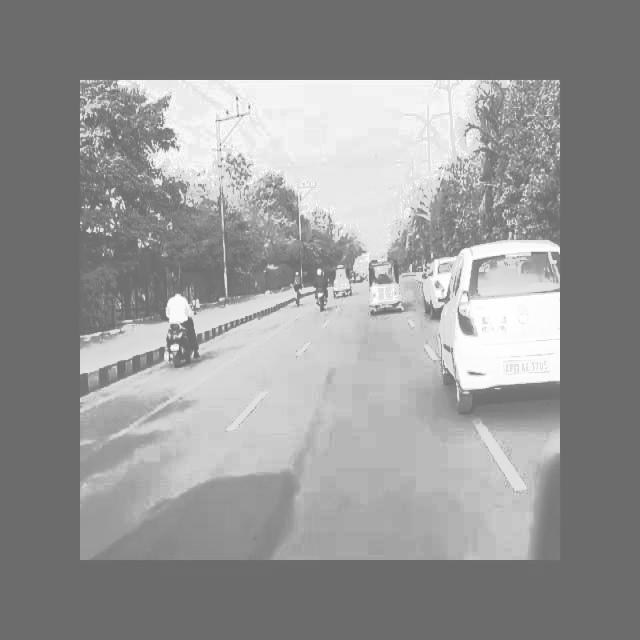Car: (457, 235, 561, 411), (419, 252, 454, 312)
